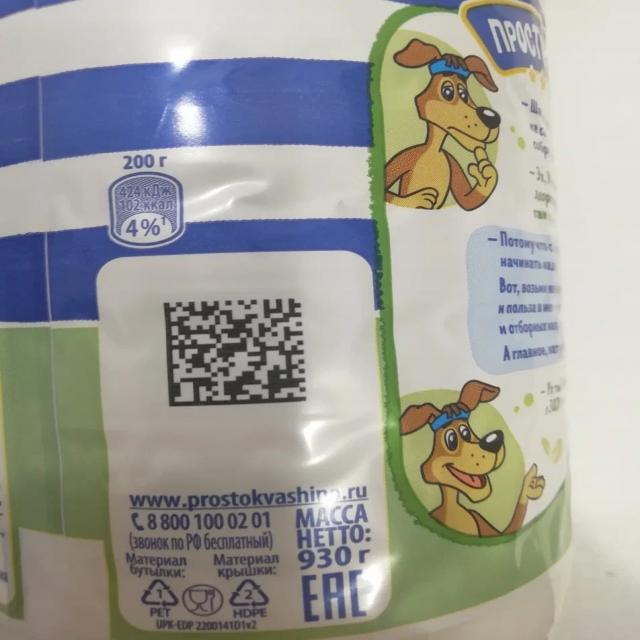datamatrix: (163, 295, 312, 410)
